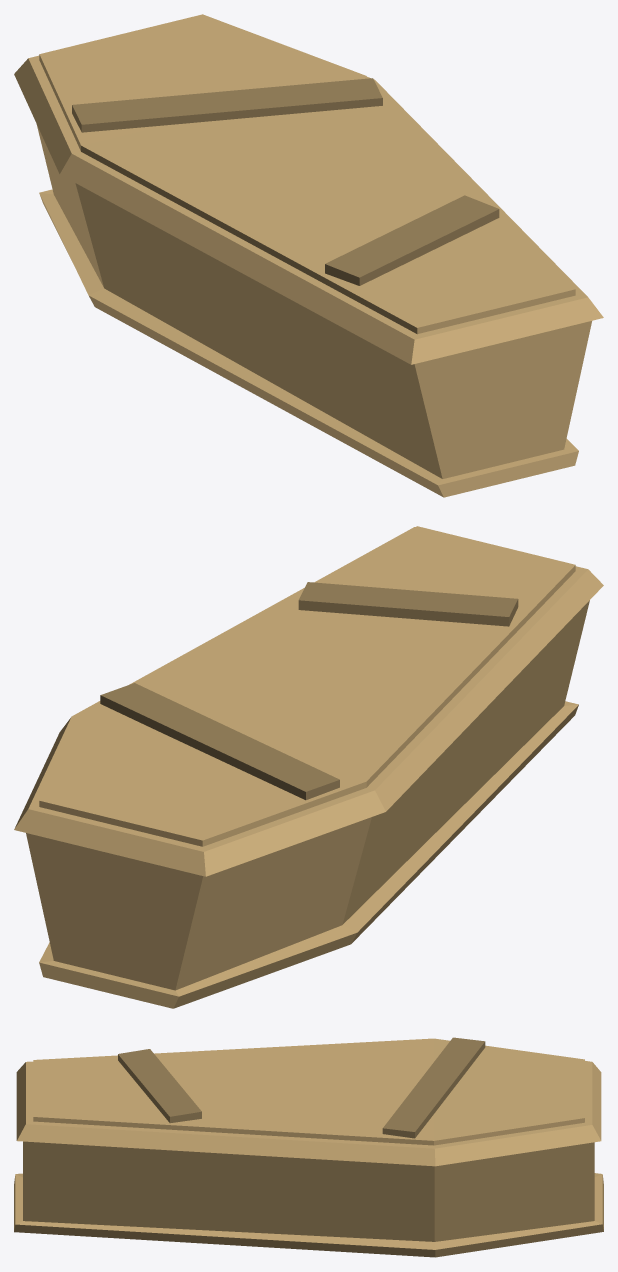
The model's file is Coffin_1_2.fbx.
The picture shows the model from 3 angles, top to bottom: view 1: azimuth 30°, elevation 25°; view 2: azimuth 150°, elevation 25°; view 3: azimuth 270°, elevation 25°; orthographic projection. The views are drawn at different scales.
Parts seen in each view (by area): view 1: Coffin_1_2; view 2: Coffin_1_2; view 3: Coffin_1_2.
Part boxes in pixels (<box>): Coffin_1_2: <box>14,14,603,497</box>; Coffin_1_2: <box>14,526,603,1008</box>; Coffin_1_2: <box>14,1037,603,1257</box>.
Size of the model in its own units: 41.79 by 21.58 by 89.01.
